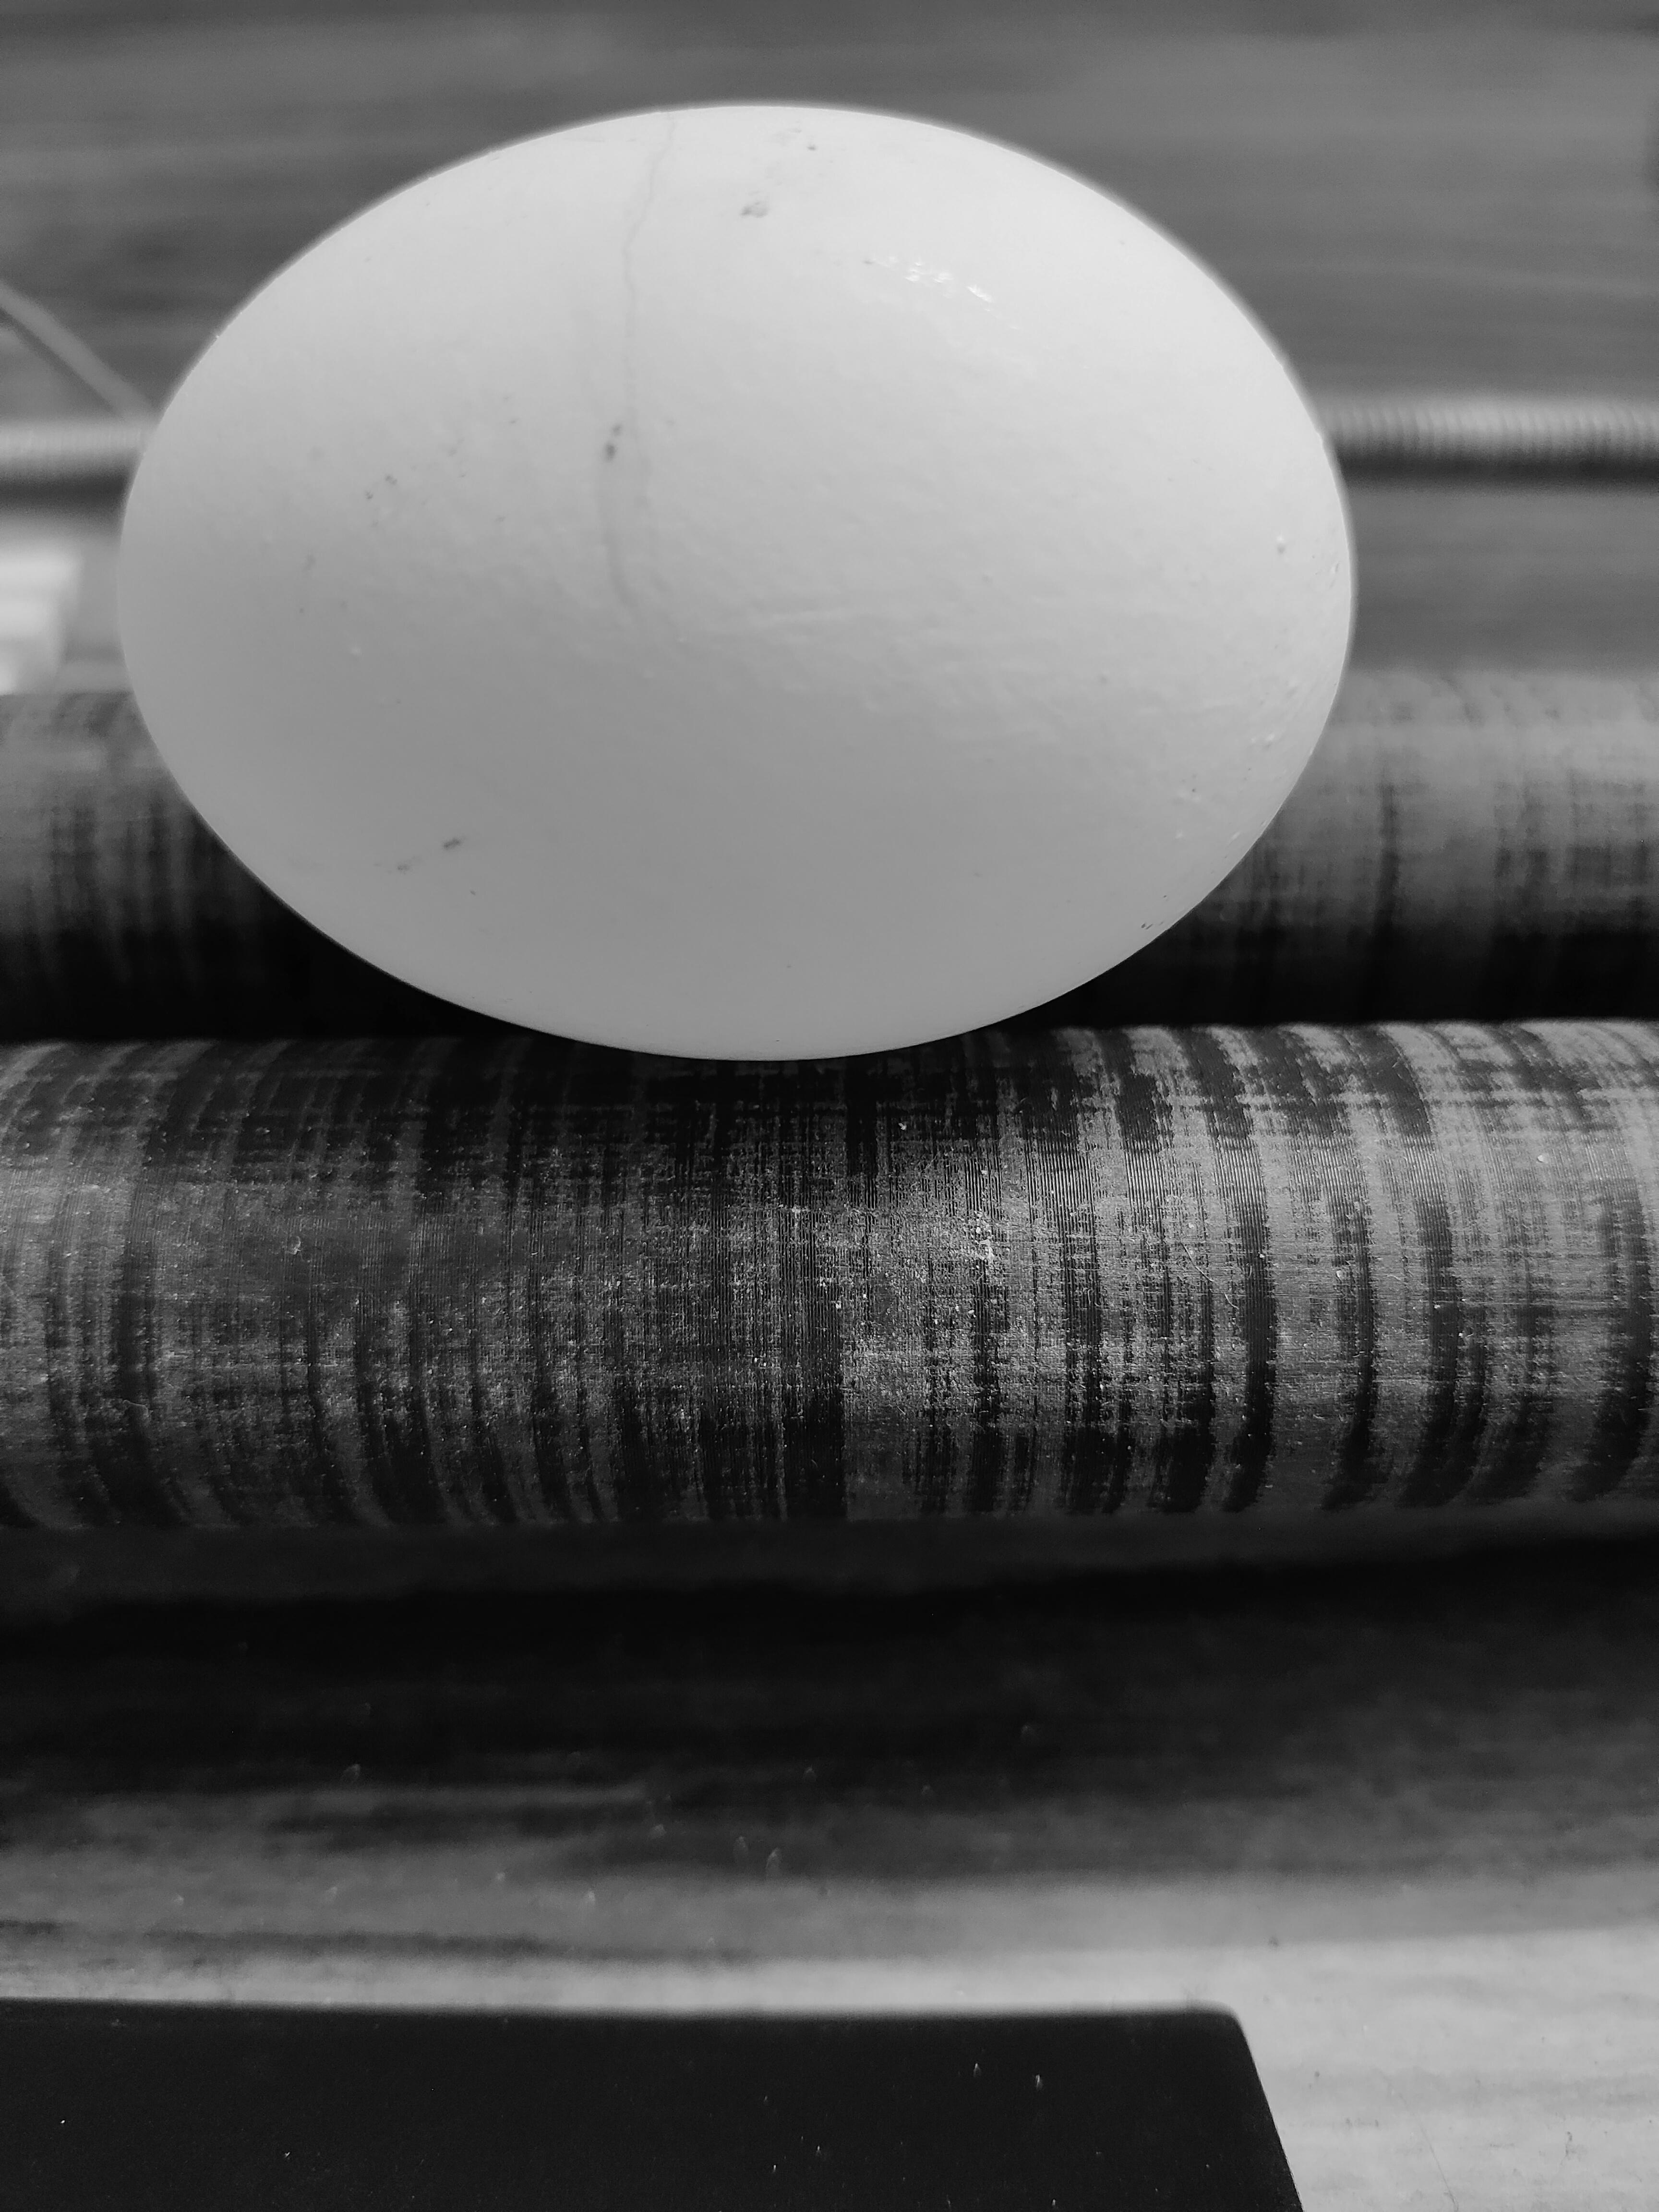telur: (106, 78, 1371, 1076)
